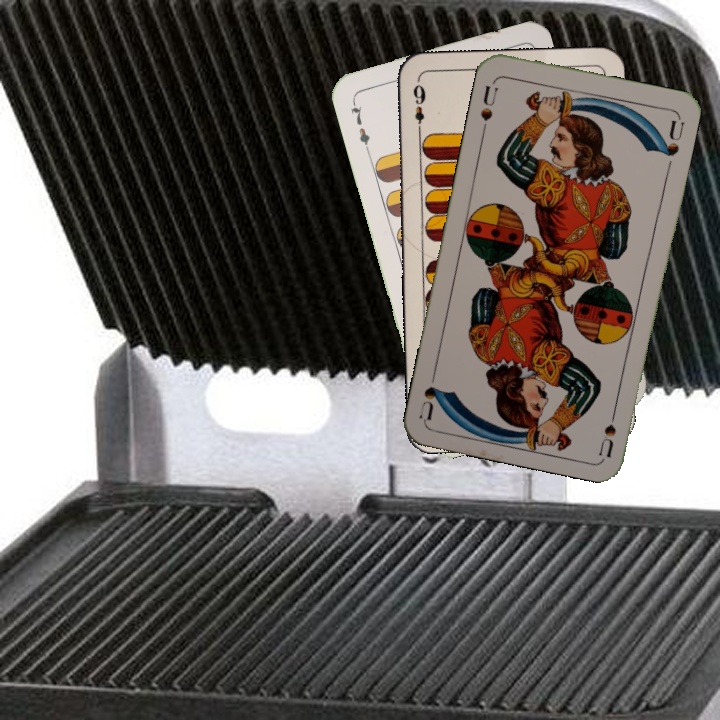E7: (346, 96, 373, 154)
E9: (408, 80, 428, 136)
SU: (595, 398, 621, 458), (476, 81, 500, 135)
